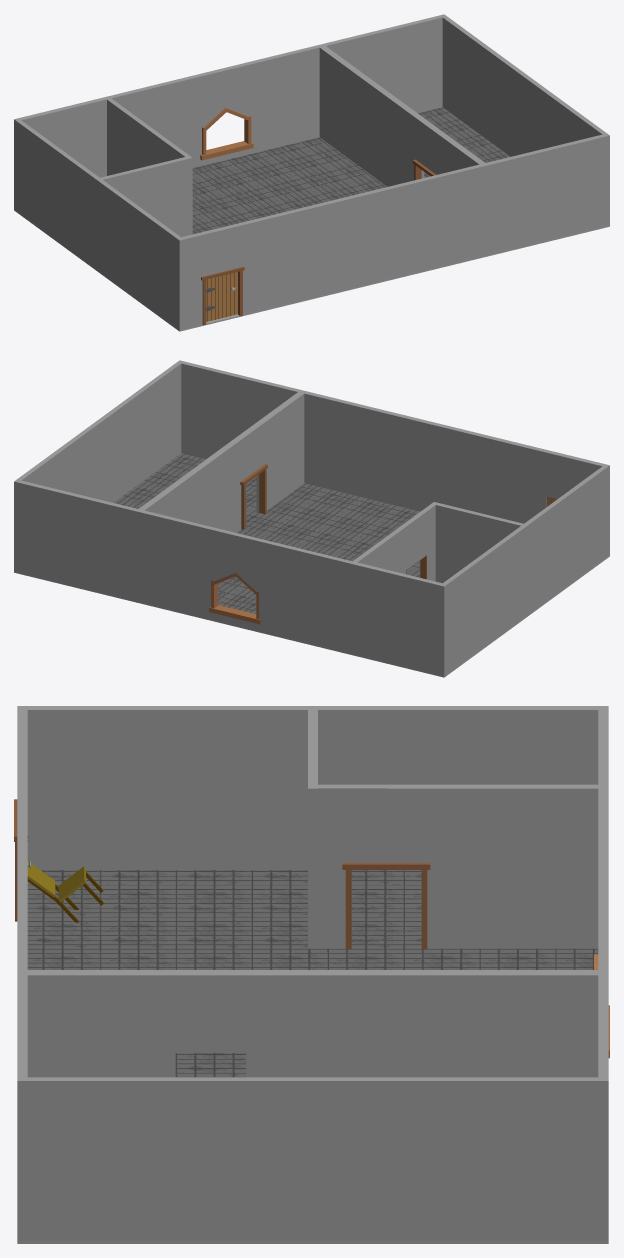
Rendered from environment.fbx.
3 views of the same model, one above another, from view 1: azimuth 30°, elevation 25°; view 2: azimuth 150°, elevation 25°; view 3: azimuth 270°, elevation 25° (orthographic). The views are drawn at different scales.
Visible parts, largest first — view 1: polySurface4; view 2: polySurface4; view 3: polySurface4.
Part boxes in pixels (<box>): polySurface4: <box>14,14,609,331</box>; polySurface4: <box>14,360,609,677</box>; polySurface4: <box>14,706,609,1243</box>.
Size of the model in its own units: 150 by 30.36 by 101.
